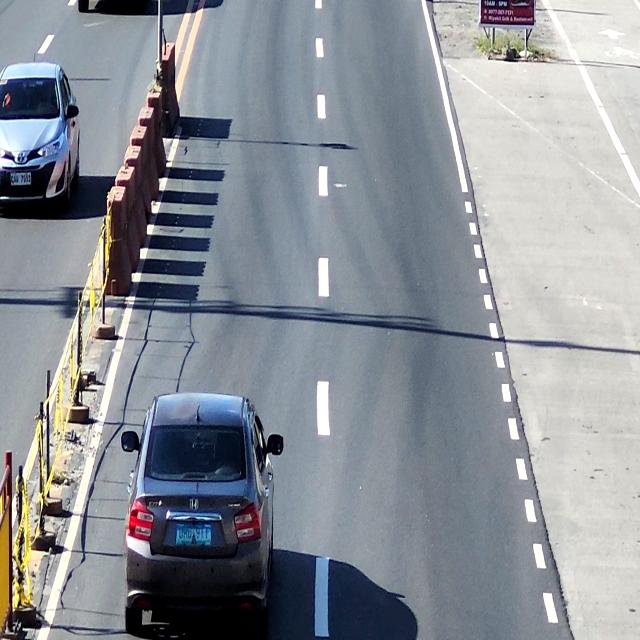Car: (125, 386, 284, 639), (0, 63, 82, 209), (72, 0, 162, 17)
License-Plate: (172, 518, 215, 553), (10, 171, 32, 190)
